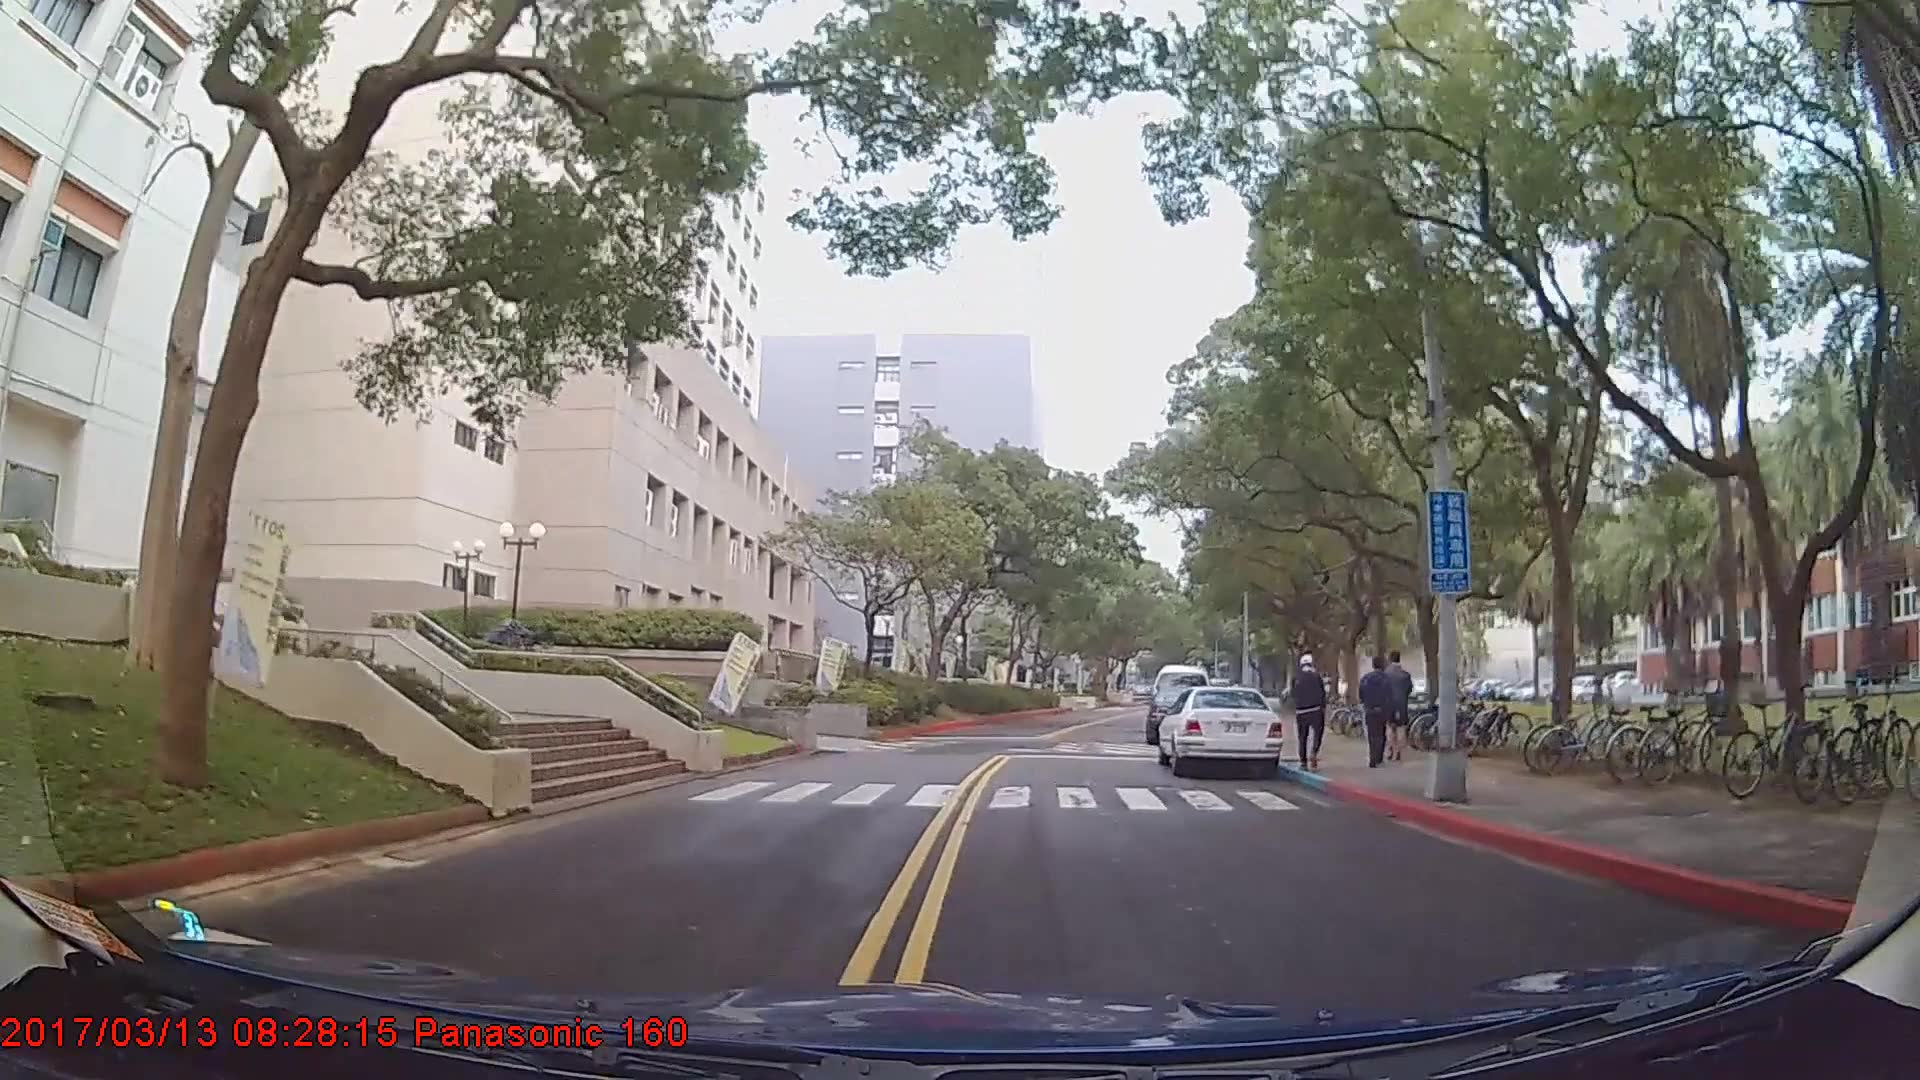pedestrian: (1361, 647, 1399, 769), (1295, 656, 1327, 771)
vehicle: (1154, 685, 1283, 778)
